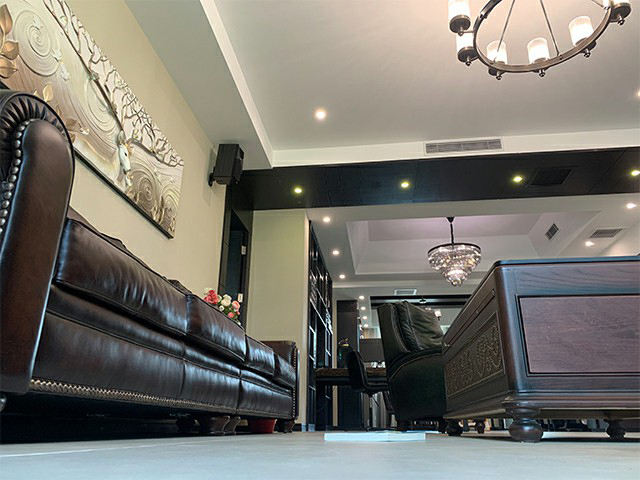book: (323, 430, 427, 443)
sofa: (1, 87, 300, 436), (376, 299, 449, 433)
stool: (345, 349, 393, 433)
table: (440, 254, 640, 445), (314, 366, 390, 432)
